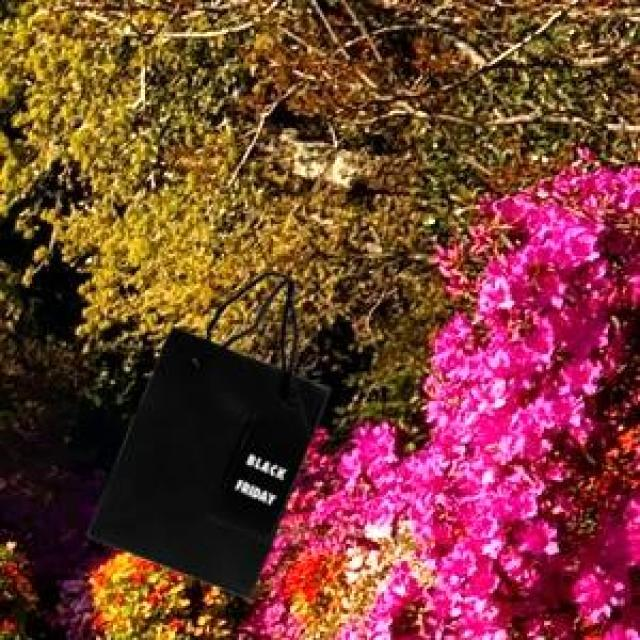Paper_Bag: (85, 268, 328, 596)
